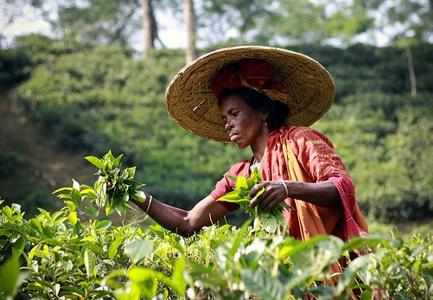person: (99, 61, 387, 300)
